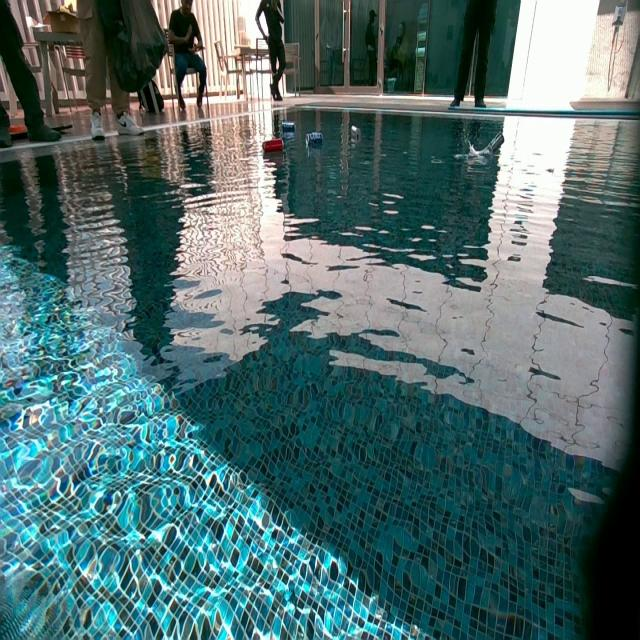Cans: (489, 130, 504, 156), (263, 138, 285, 153), (307, 132, 324, 148), (350, 125, 361, 141), (281, 119, 295, 131)
